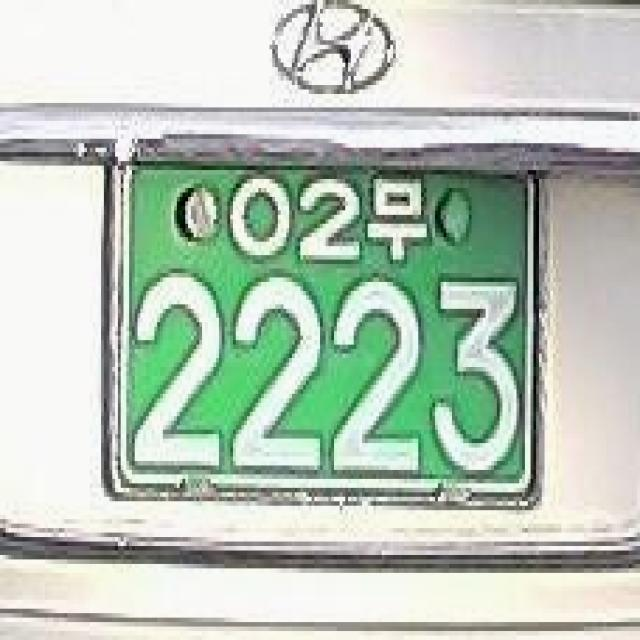illegal_plate: (86, 127, 562, 538)
